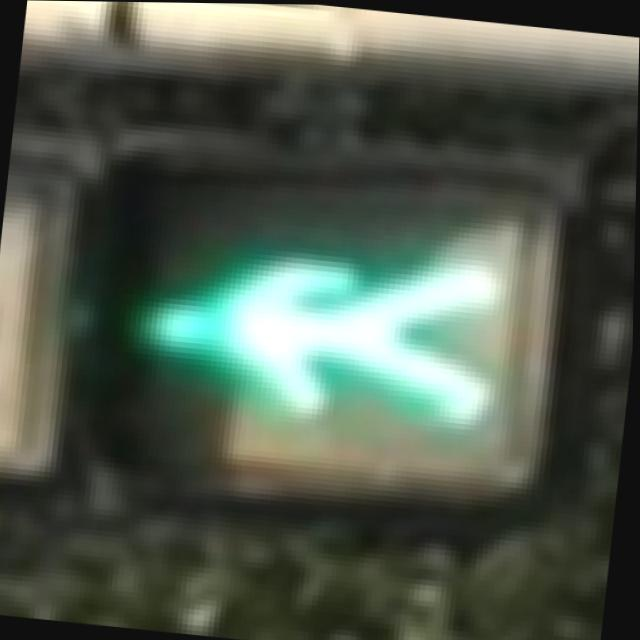green_light: (67, 151, 543, 516)
